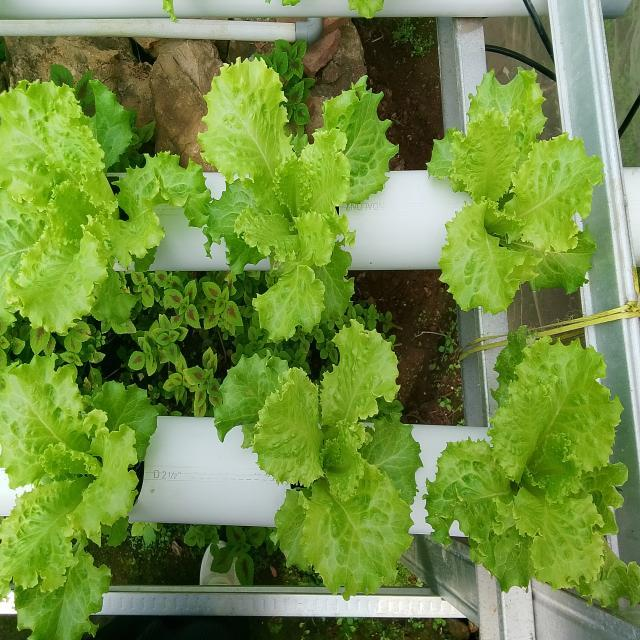Baby: (415, 329, 640, 638), (184, 56, 398, 342), (0, 78, 210, 335), (245, 320, 421, 597), (0, 351, 158, 640), (427, 69, 604, 314)
